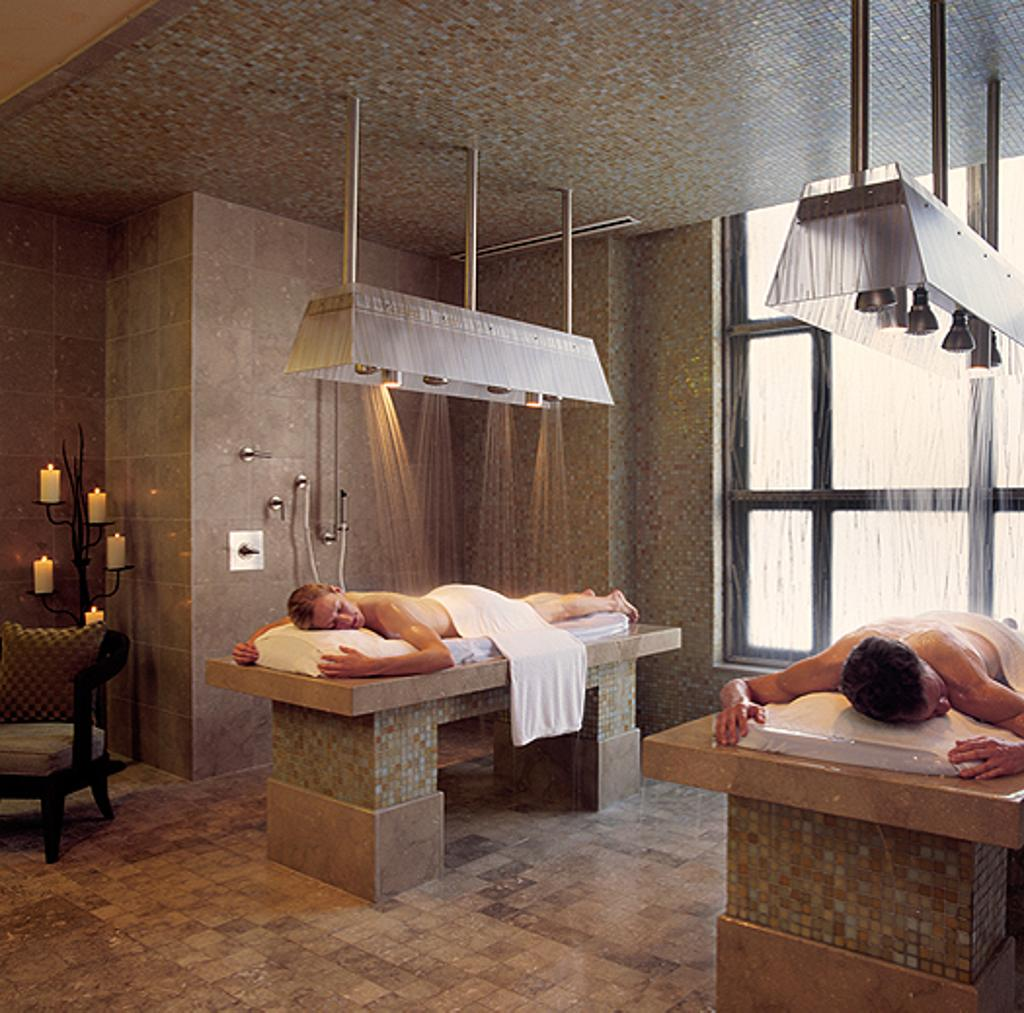face: (311, 594, 366, 629), (918, 662, 950, 720)
